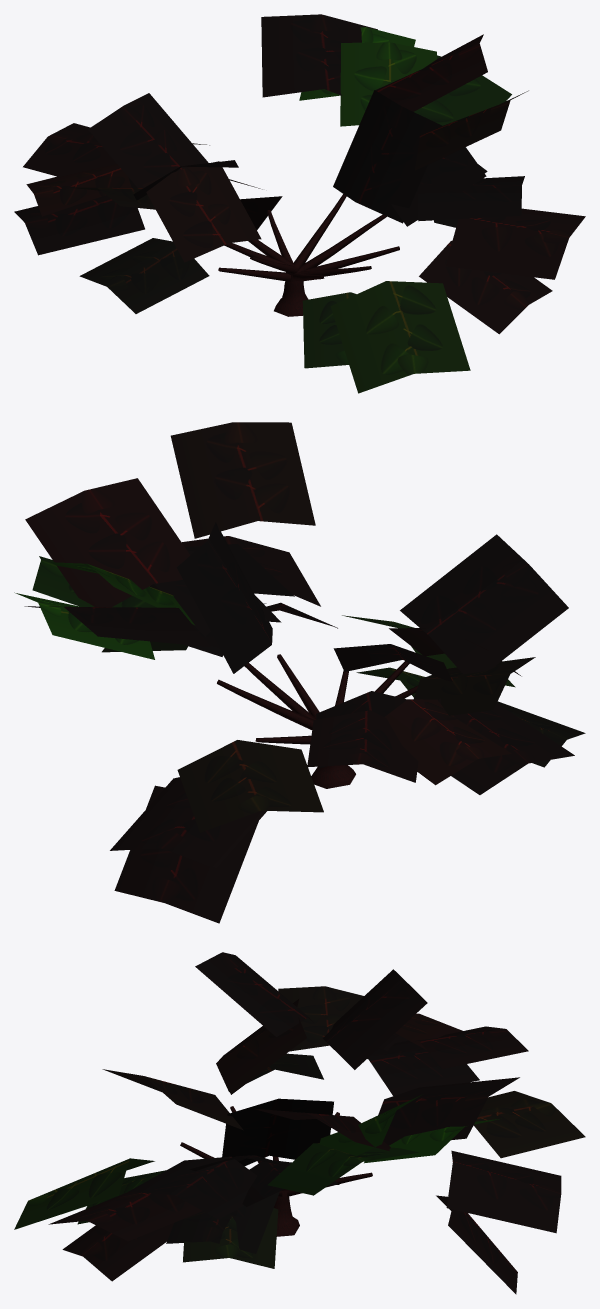
File: veg_banyan1_card.glb
The picture shows the model from 3 angles, top to bottom: view 1: azimuth 30°, elevation 25°; view 2: azimuth 150°, elevation 25°; view 3: azimuth 270°, elevation 25°; orthographic projection. The views are drawn at different scales.
Parts seen in each view (by area): view 1: banyan_1; view 2: banyan_1; view 3: banyan_1.
Boxes of the visible parts, box(x1,y1,x2,y2) form: banyan_1: box(14, 14, 585, 393); banyan_1: box(14, 422, 585, 923); banyan_1: box(14, 952, 585, 1294).
Bounding box in the file's own units: 37.24 × 19.99 × 38.23.
2 materials, 2 textured.
